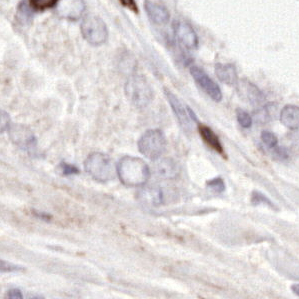Lymphocyte: (196, 122, 229, 159)
